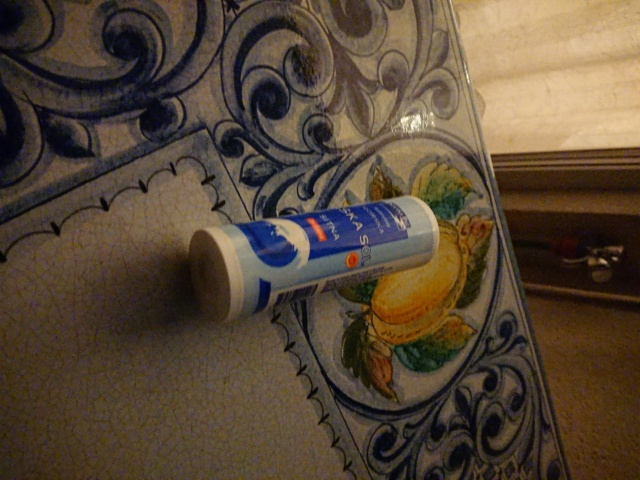Solana Pag Fine Sea Salt 250g: (184, 188, 443, 328)
